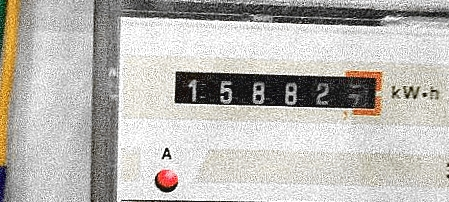1: (186, 74, 200, 103)
2: (313, 80, 331, 107)
5: (216, 77, 235, 108)
7: (346, 90, 359, 108)
8: (248, 78, 266, 107), (282, 79, 299, 107)
screen: (161, 54, 389, 124)
